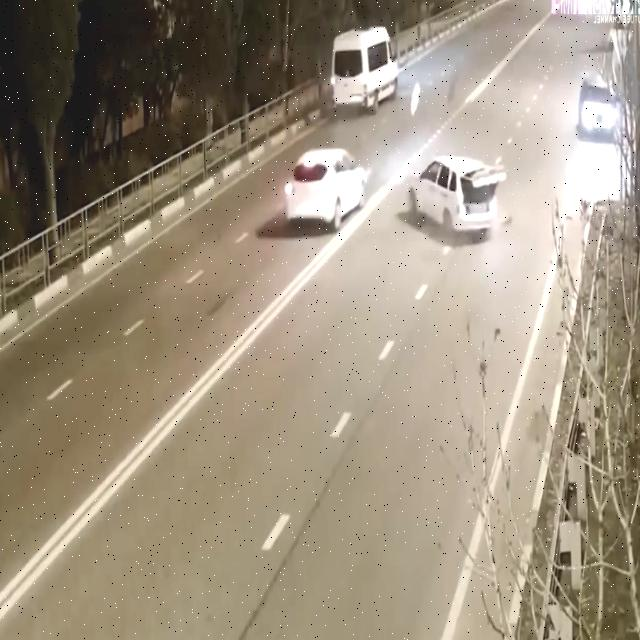accident: (402, 137, 508, 262)
